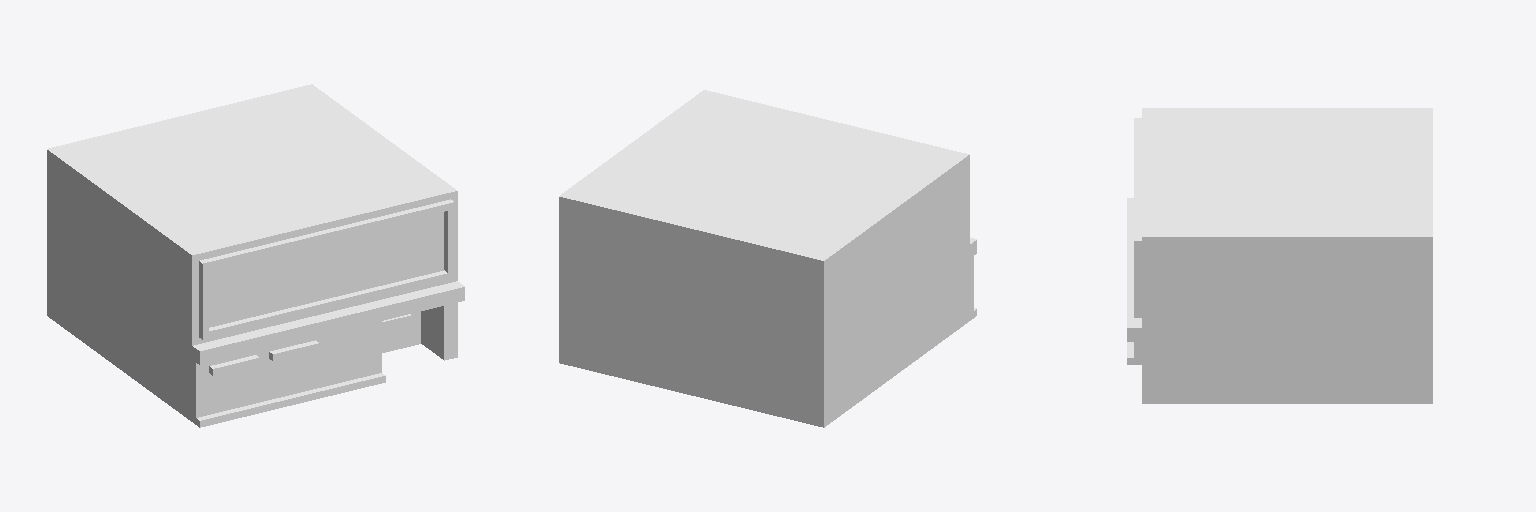
The model's file is publicbuilding.obj.
3 views of the same model, side by side, from view 1: azimuth 30°, elevation 25°; view 2: azimuth 150°, elevation 25°; view 3: azimuth 270°, elevation 25° (orthographic).
Bounding box in the file's own units: 40 × 24 × 40.